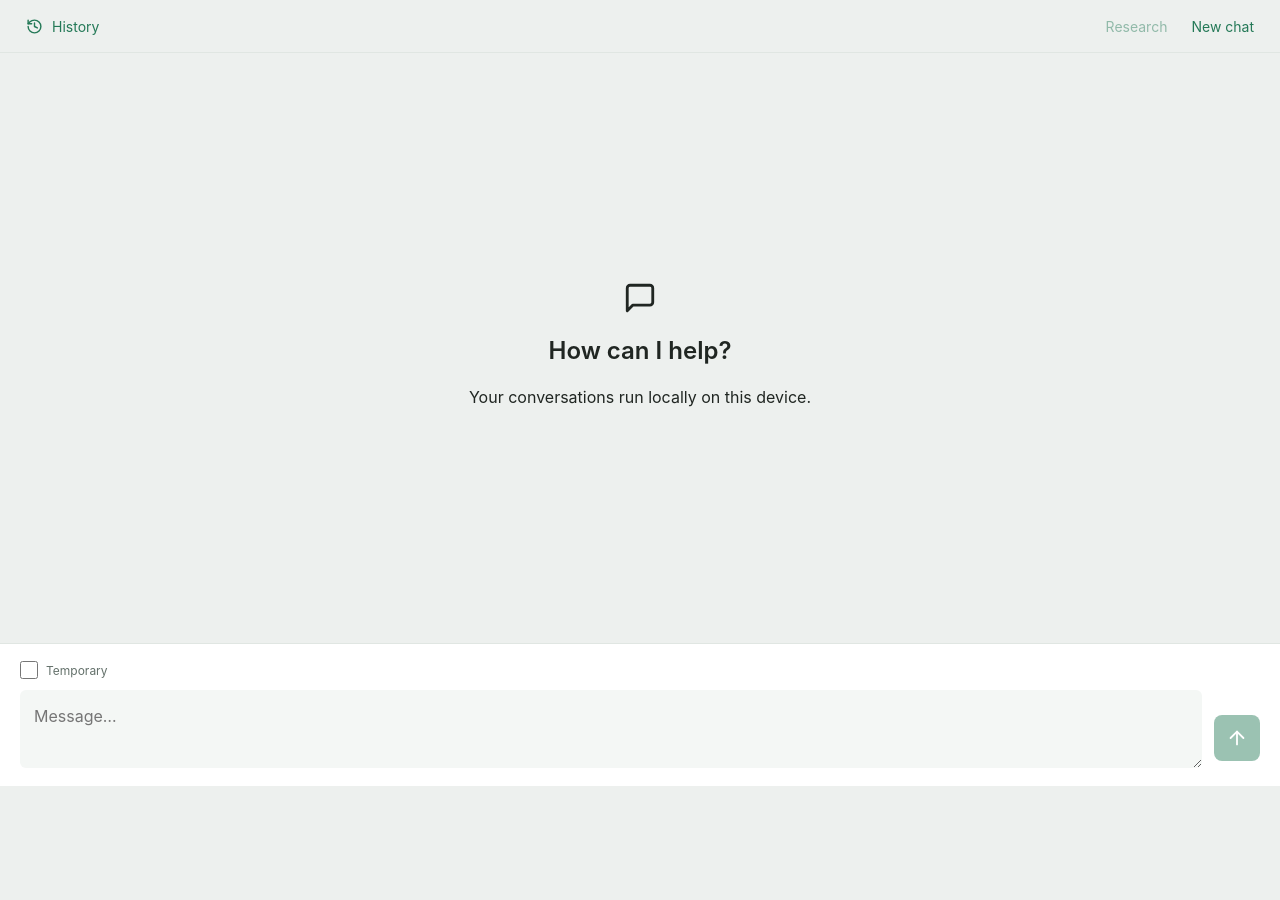
Test: sends an explicitly temporary local conversation
Click the checkbox labelled "Temporary": (29, 670) [20, 661, 38, 679]
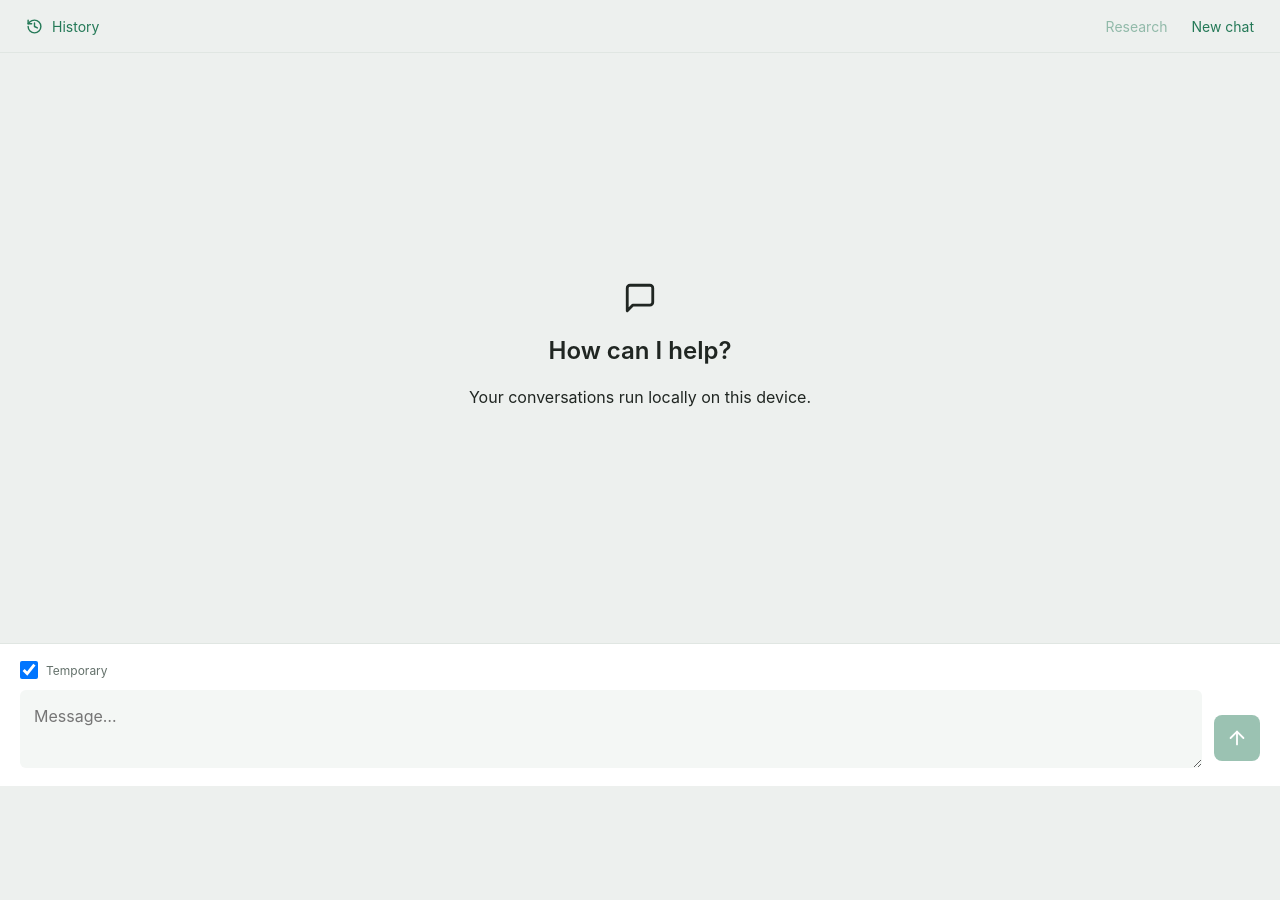
In the text box labelled "Message": (611, 729) [20, 690, 1202, 768], type "Hello there"
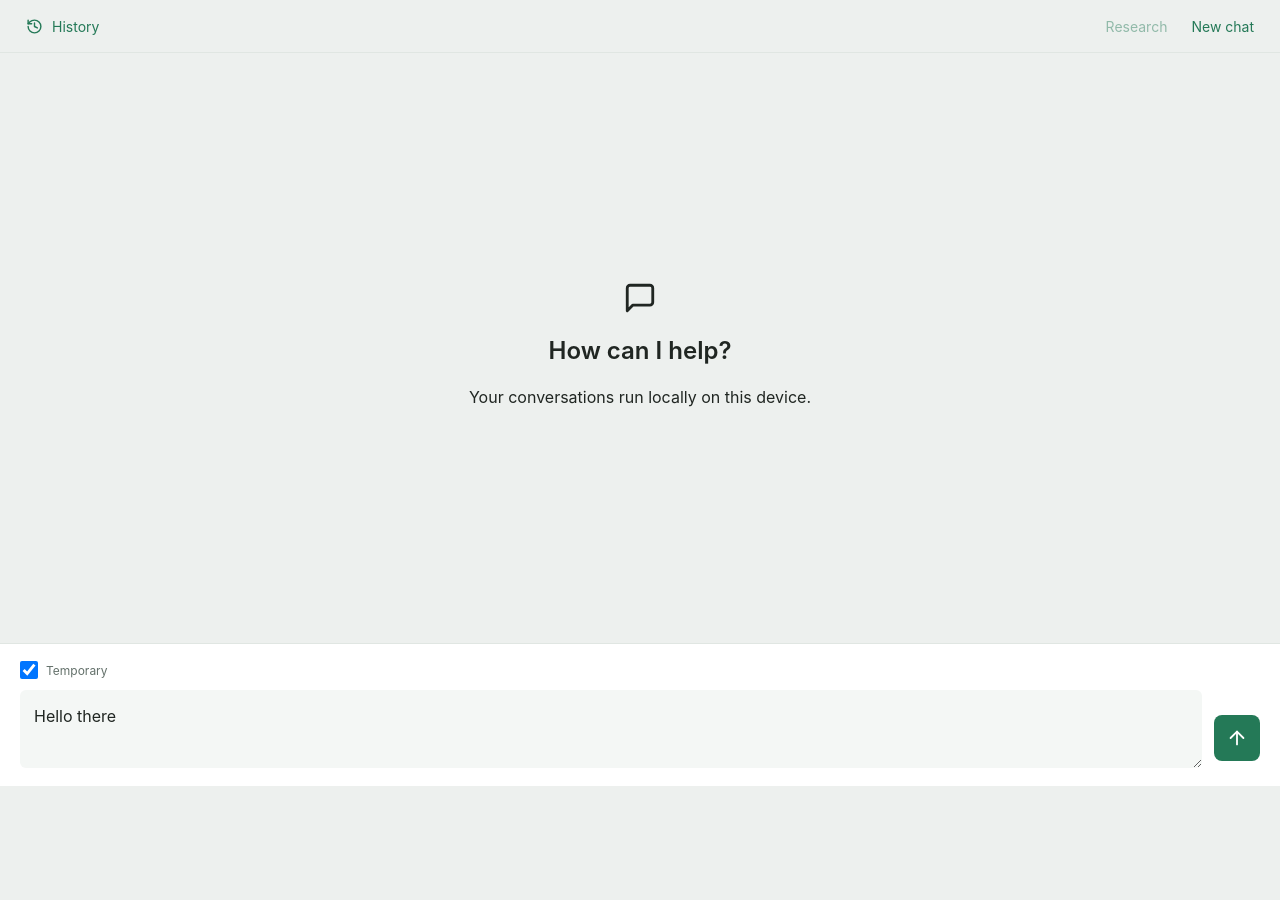
Click the button named "Send message": (1237, 738) [1214, 715, 1260, 761]
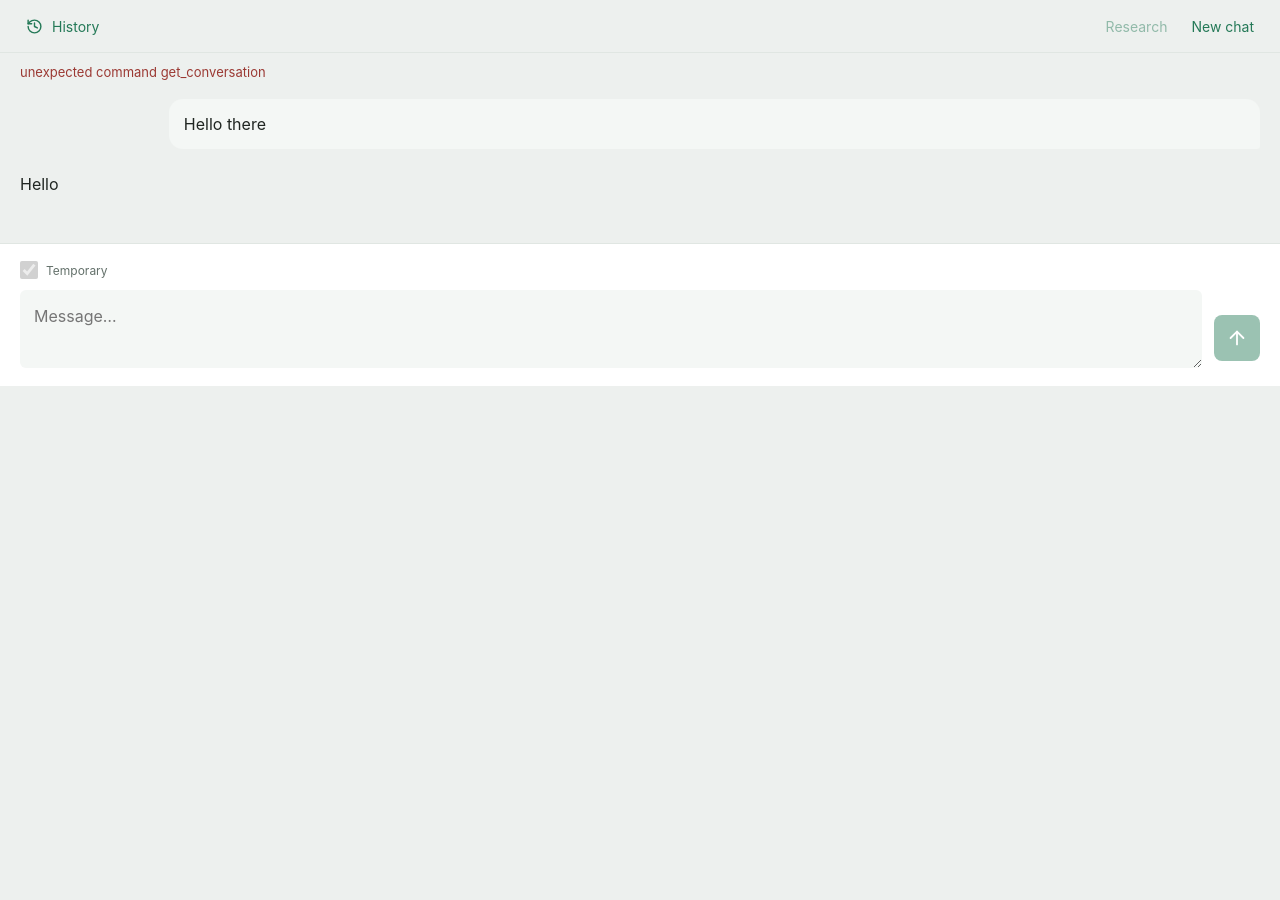
Check: the text "Hello" is shown, box [20, 174, 59, 194]
